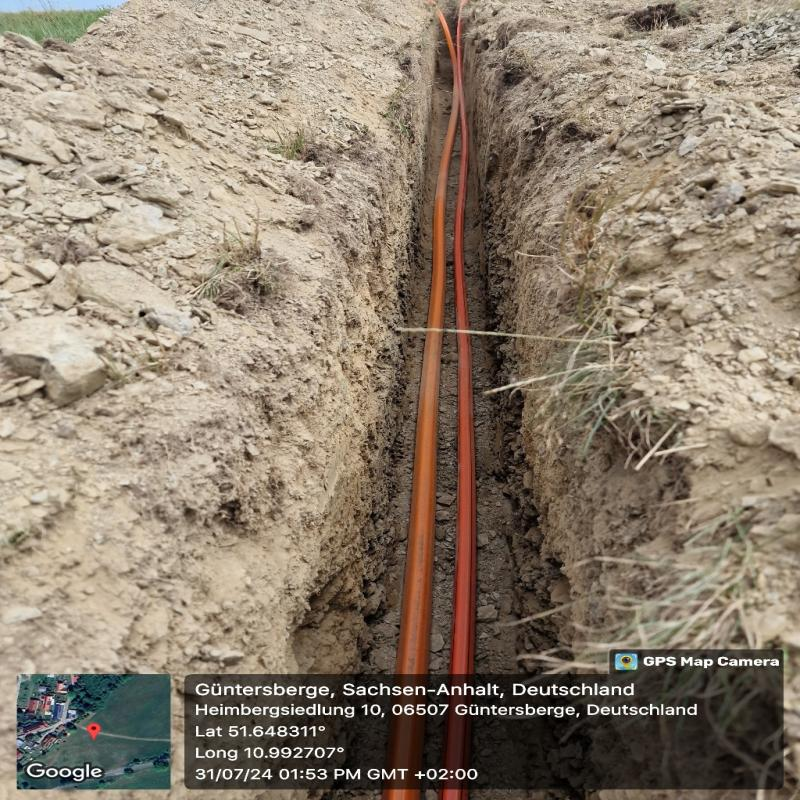Orang-Speednetrohrchen: (397, 71, 479, 677)
